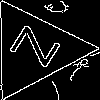Z: (9, 24, 71, 73)
